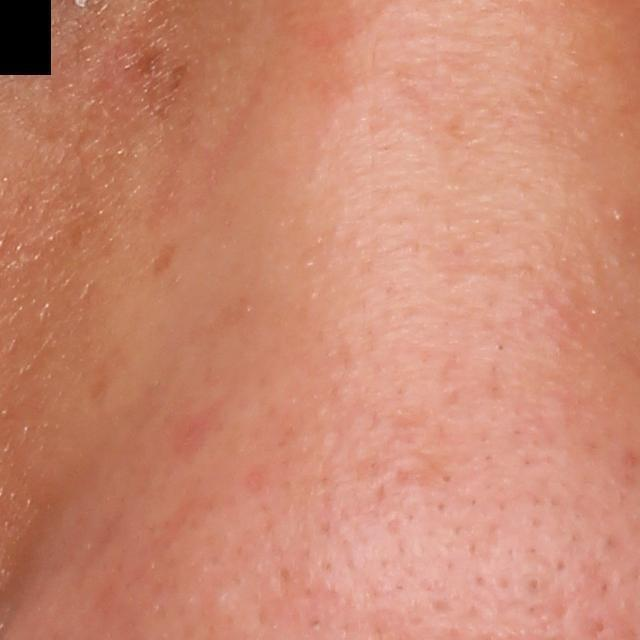melasma: (128, 37, 192, 101), (151, 236, 183, 272)
